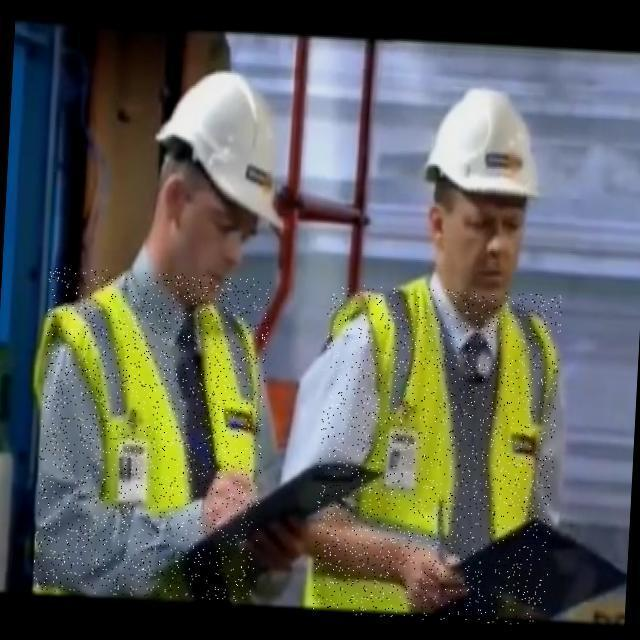helmet: (143, 55, 294, 241), (411, 77, 549, 212)
vest: (312, 284, 563, 627), (33, 267, 272, 602)
